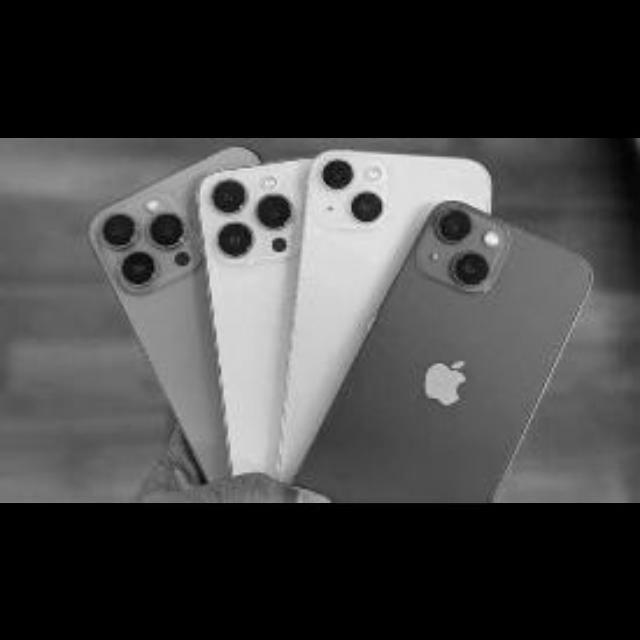fake: (24, 136, 628, 498)
